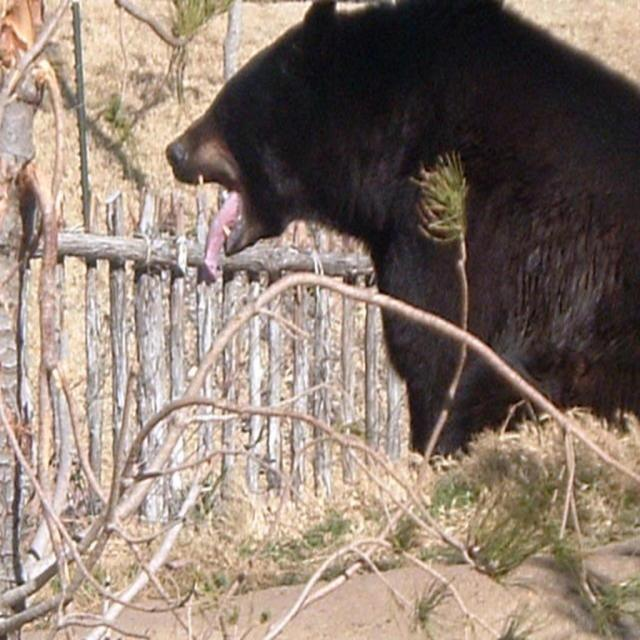Buffalo: (163, 0, 639, 468)
